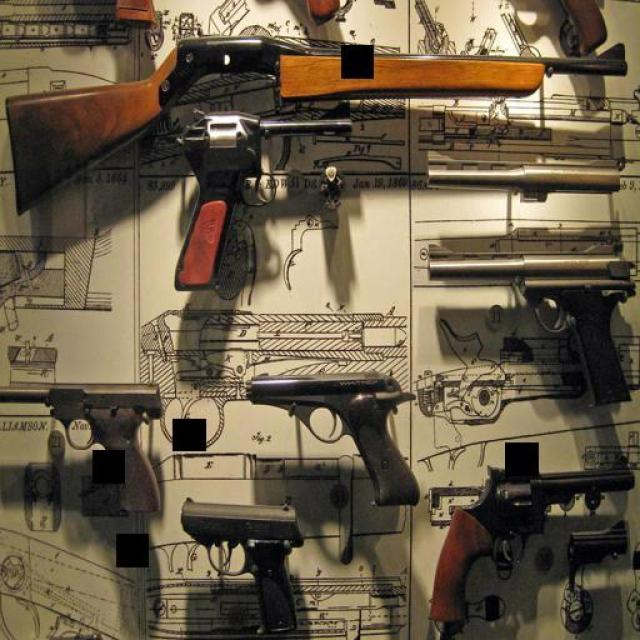gun: (426, 456, 636, 629), (421, 249, 635, 410), (174, 106, 346, 292), (240, 365, 420, 509), (0, 372, 166, 516), (172, 492, 304, 632)
